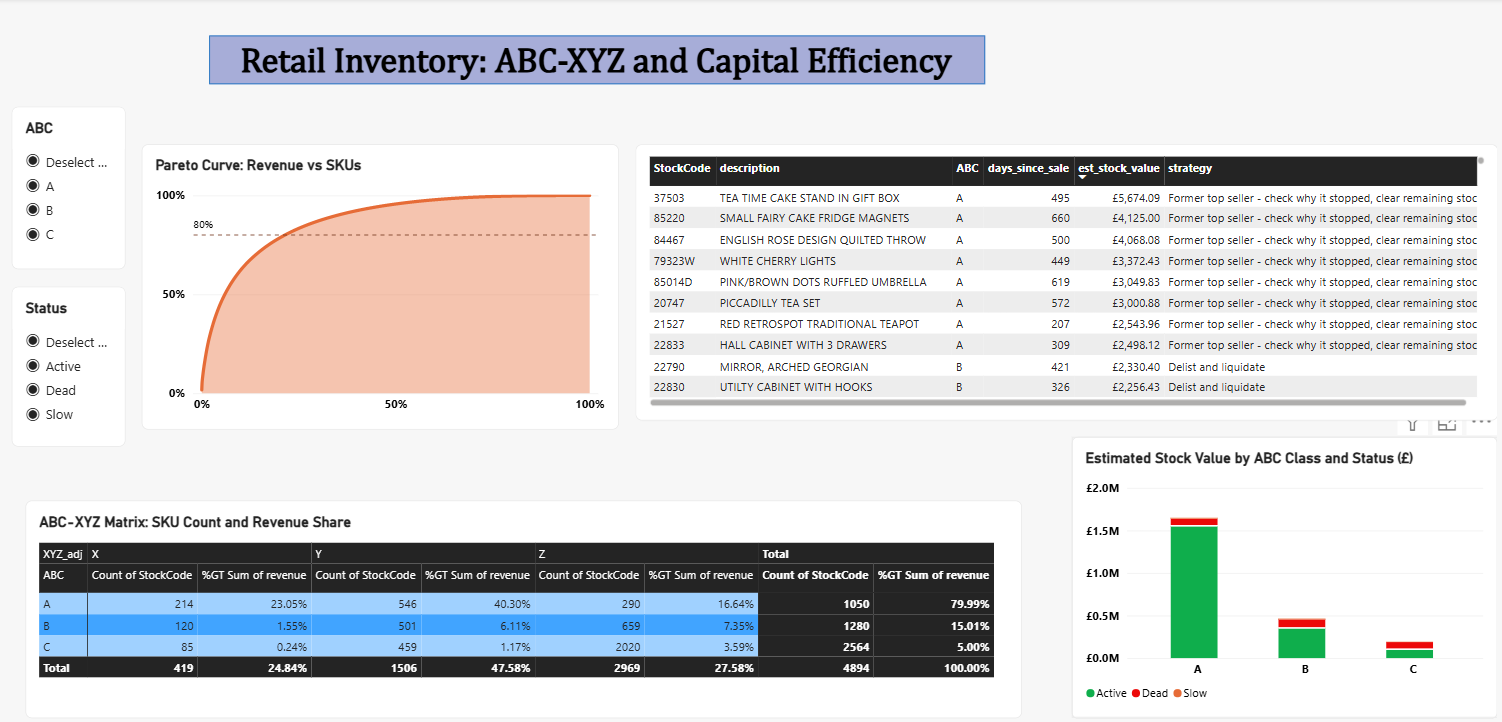

The page's visual inventory and layout, read from the dashboard file:
{"tool":"powerbi","page":{"name":"Page 1","canvas":[1920,1080],"ordinal":0},"visuals":[{"type":"lineChart","title":"Pareto Curve: Revenue vs SKUs","fields":{"Category":["sku_analysis_final.sku_pct"],"Y":["Max(sku_analysis_final.cum_share)"]},"box":[176.2,179.4,587.5,351.2],"z":0},{"type":"pivotTable","title":"ABC-XYZ Matrix: SKU Count and Revenue Share","fields":{"Columns":["sku_analysis_final.XYZ_adj"],"Rows":["sku_analysis_final.ABC"],"Values":["CountNonNull(sku_analysis_final.StockCode)","Sum(sku_analysis_final.revenue)"]},"box":[33.3,618.3,1226.4,268.1],"z":1000},{"type":"columnChart","title":"Estimated Stock Value by ABC Class and Status (£)","fields":{"Category":["sku_analysis_final.ABC"],"Series":["sku_analysis_final.status"],"Y":["Sum(sku_analysis_final.est_stock_value)"]},"box":[1322.2,539.7,523.6,347.2],"z":2000},{"type":"tableEx","fields":{"Values":["sku_analysis_final.StockCode","sku_analysis_final.description","sku_analysis_final.ABC","sku_analysis_final.days_since_sale","sku_analysis_final.est_stock_value","sku_analysis_final.strategy"]},"box":[784.1,179.4,1061.9,339.7],"z":3000},{"type":"shape","box":[260,46.7,955,60],"z":4000},{"type":"textbox","box":[298.3,55,908.3,51.7],"z":5000},{"type":"listSlicer","fields":{"Values":["sku_analysis_final.ABC"]},"box":[17.5,133.3,139.7,200],"z":6000},{"type":"listSlicer","title":"Status","fields":{"Values":["sku_analysis_final.status"]},"box":[17.5,355.6,139.7,196.8],"z":7000}]}

Visuals, with their boxes on the page's 1920x1080 design canvas (x1, y1, x2, y2). These are canvas units, not pixel positions in the 1502x722 screenshot, which may show the page scaled, cropped or inside an application window:
"Pareto Curve: Revenue vs SKUs" lineChart: BBox(176, 179, 764, 531)
"ABC-XYZ Matrix: SKU Count and Revenue Share" pivotTable: BBox(33, 618, 1260, 886)
"Estimated Stock Value by ABC Class and Status (£)" columnChart: BBox(1322, 540, 1846, 887)
tableEx - sku_analysis_final.StockCode x sku_analysis_final.description: BBox(784, 179, 1846, 519)
shape: BBox(260, 47, 1215, 107)
textbox: BBox(298, 55, 1207, 107)
listSlicer - sku_analysis_final.ABC: BBox(18, 133, 157, 333)
"Status" listSlicer: BBox(18, 356, 157, 552)
